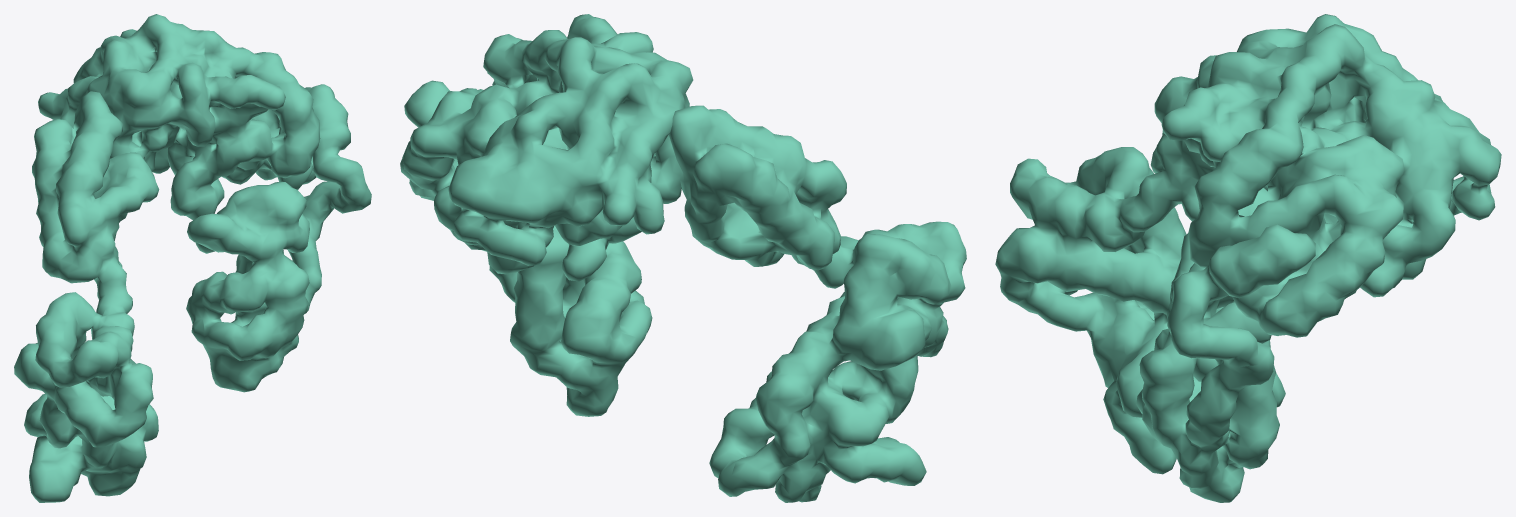
File: translation_eif2_specimen.glb
3 renders of one model, left to right at view 1: azimuth 30°, elevation 25°; view 2: azimuth 150°, elevation 25°; view 3: azimuth 270°, elevation 25°, orthographic. The views are drawn at different scales.
Visible parts, largest first — view 1: GEO-eIF2-alpha, GEO-eIF2-gamma, GEO-eIF2-beta; view 2: GEO-eIF2-alpha, GEO-eIF2-gamma, GEO-eIF2-beta; view 3: GEO-eIF2-gamma, GEO-eIF2-alpha, GEO-eIF2-beta.
Part boxes in pixels (x1,y1,x2,y2): GEO-eIF2-alpha: (14, 91, 159, 502); GEO-eIF2-gamma: (38, 14, 320, 220); GEO-eIF2-beta: (186, 84, 371, 392); GEO-eIF2-alpha: (668, 105, 966, 502); GEO-eIF2-gamma: (400, 14, 693, 274); GEO-eIF2-beta: (404, 80, 652, 416); GEO-eIF2-gamma: (1161, 14, 1501, 337); GEO-eIF2-alpha: (995, 55, 1223, 474); GEO-eIF2-beta: (1136, 224, 1315, 502).
Size of the model in its own units: 2.49 by 2.58 by 2.3.
